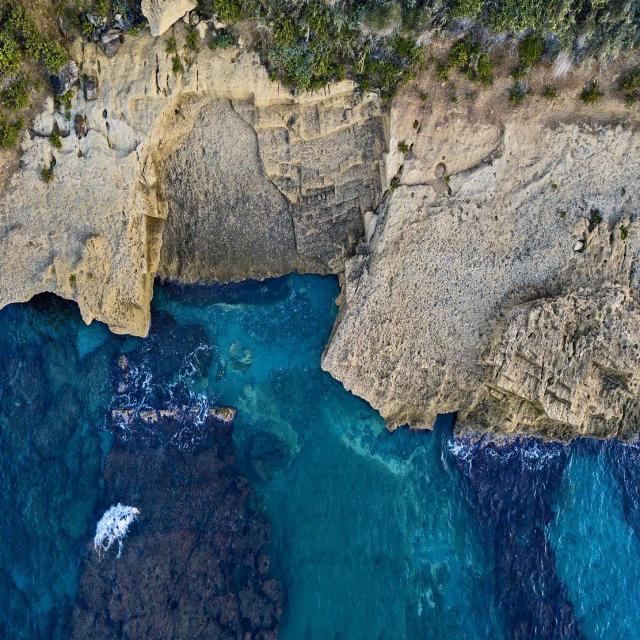reef: (92, 355, 296, 640), (483, 427, 582, 640), (78, 212, 220, 308)
